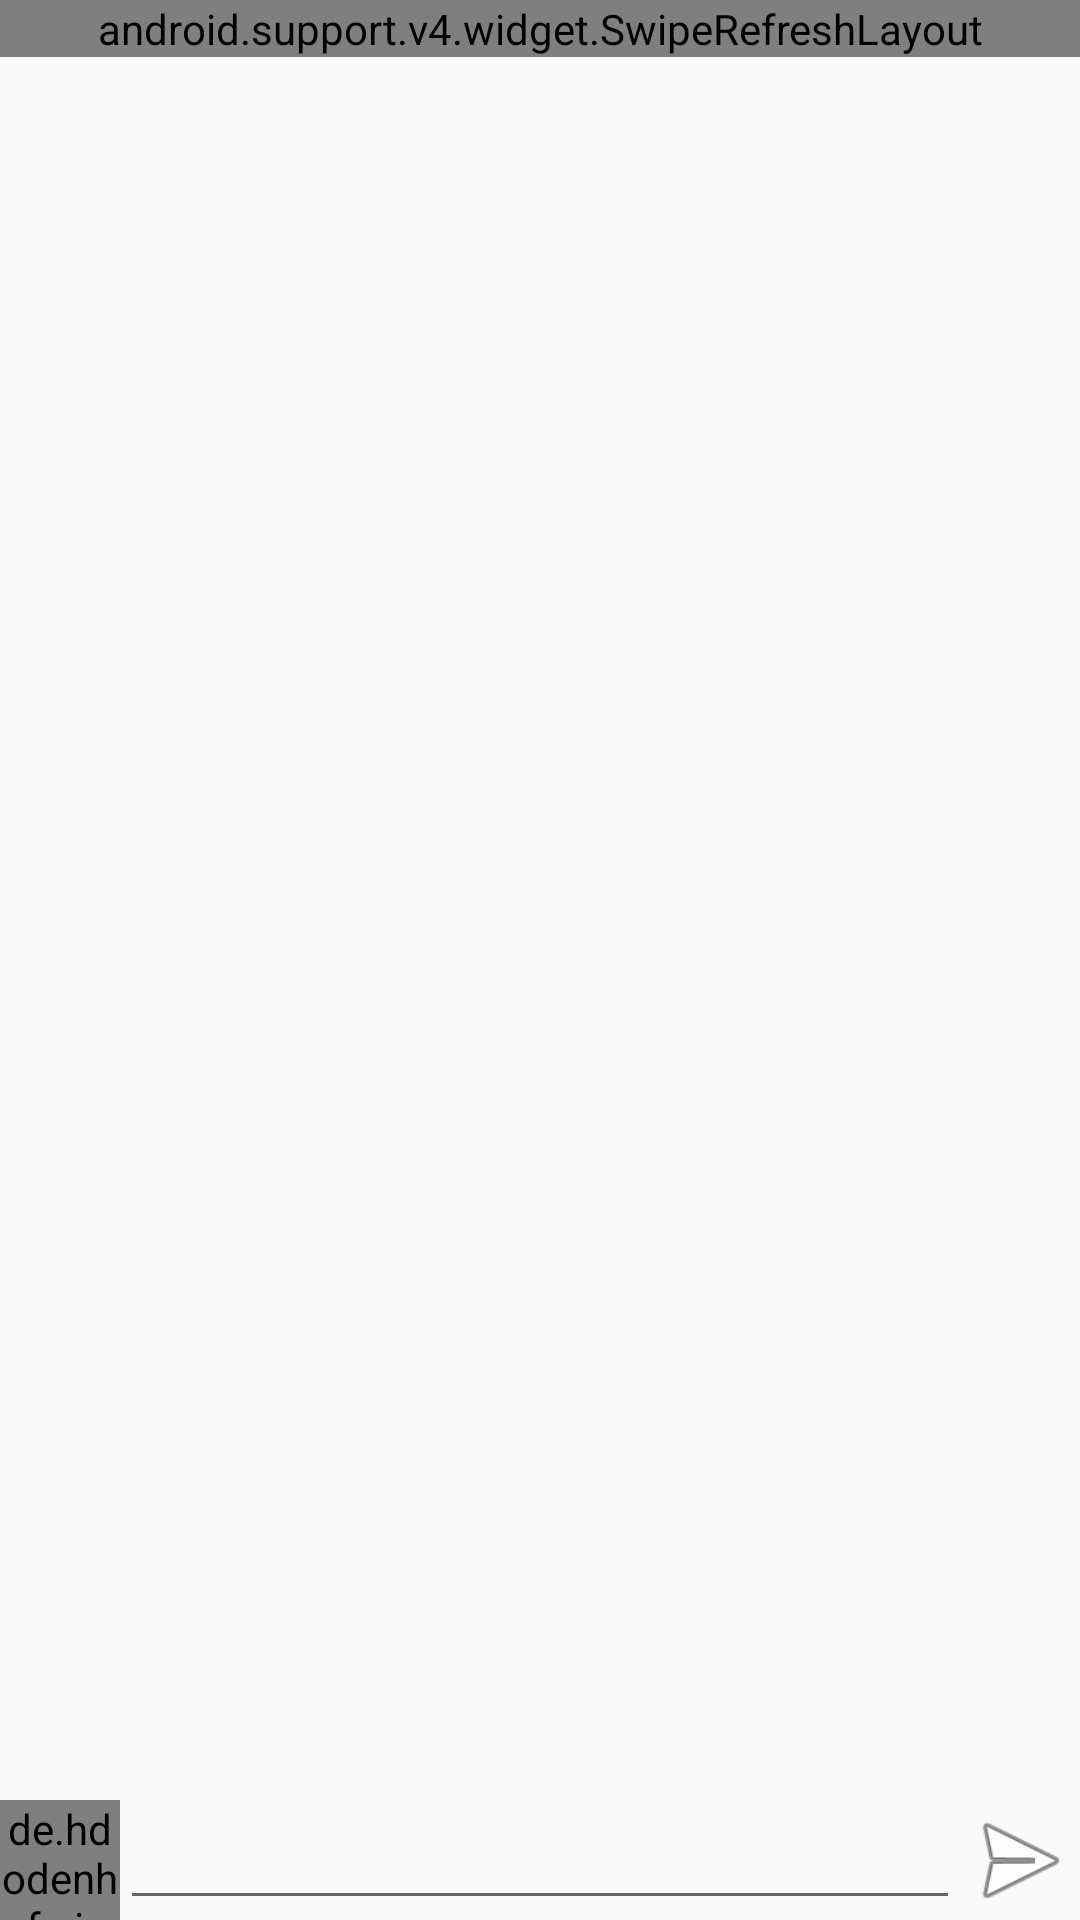

Named icons in this screenshot (1080 x 1920) and their centers, point (x, y):
send: point (1021, 1861)
